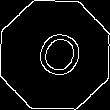O_SW: (24, 23, 86, 87)
